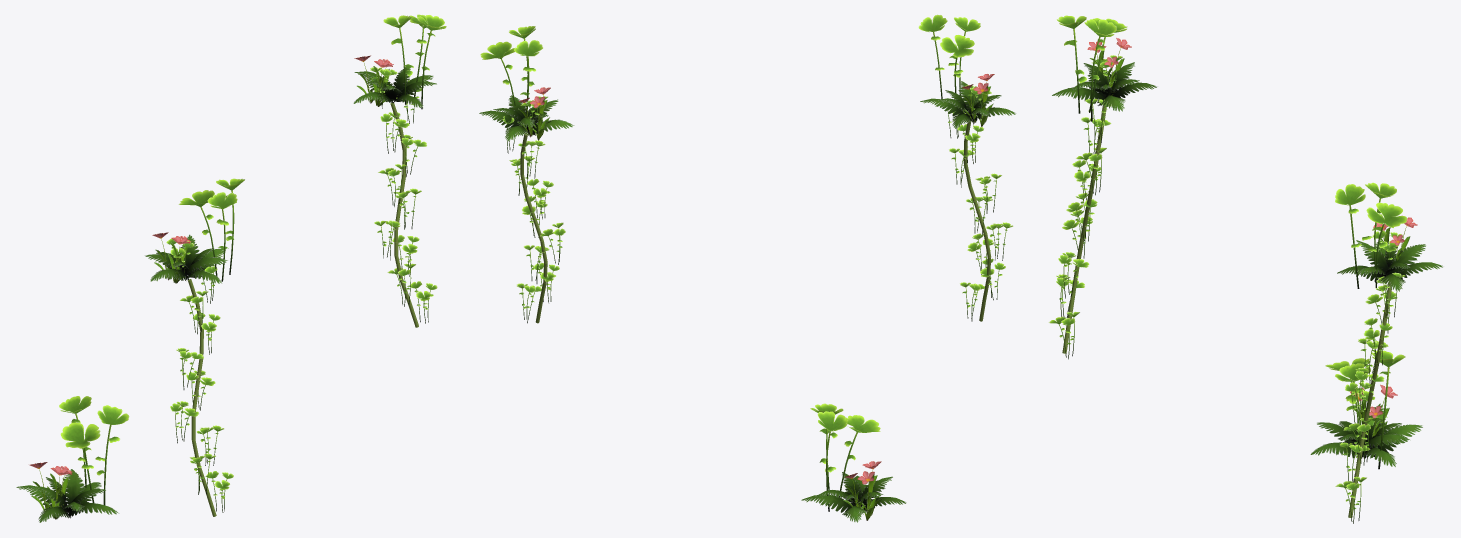
The model's file is Wayside_Shelter_Greenery.glb.
The picture shows the model from 3 angles, left to right: view 1: azimuth 30°, elevation 25°; view 2: azimuth 150°, elevation 25°; view 3: azimuth 270°, elevation 25°; orthographic projection. The views are drawn at different scales.
Visible parts, largest first — view 1: Patch_00, Patch_02, Patch_04, Patch_05, Patch_03, Patch_01; view 2: Patch_00, Patch_02, Patch_04, Patch_05, Patch_03; view 3: Patch_02, Patch_00, Patch_04, Patch_01, Patch_05, Patch_03.
Boxes of the visible parts, x1=… form: Patch_00: x1=144, y1=178, x2=244, y2=516; Patch_02: x1=353, y1=14, x2=446, y2=327; Patch_04: x1=16, y1=396, x2=129, y2=522; Patch_05: x1=29, y1=462, x2=72, y2=519; Patch_03: x1=354, y1=55, x2=393, y2=106; Patch_01: x1=152, y1=232, x2=191, y2=283; Patch_00: x1=918, y1=14, x2=1016, y2=321; Patch_02: x1=479, y1=26, x2=574, y2=323; Patch_04: x1=801, y1=403, x2=906, y2=522; Patch_05: x1=843, y1=461, x2=881, y2=520; Patch_03: x1=517, y1=87, x2=551, y2=140; Patch_02: x1=1335, y1=182, x2=1442, y2=523; Patch_00: x1=1048, y1=15, x2=1157, y2=359; Patch_04: x1=1310, y1=350, x2=1422, y2=469; Patch_01: x1=1087, y1=38, x2=1131, y2=95; Patch_05: x1=1350, y1=384, x2=1397, y2=445; Patch_03: x1=1373, y1=215, x2=1417, y2=264.
Size of the model in its own units: 3.6 by 3.36 by 2.65.
Materials: 5 (4 with a texture image).
